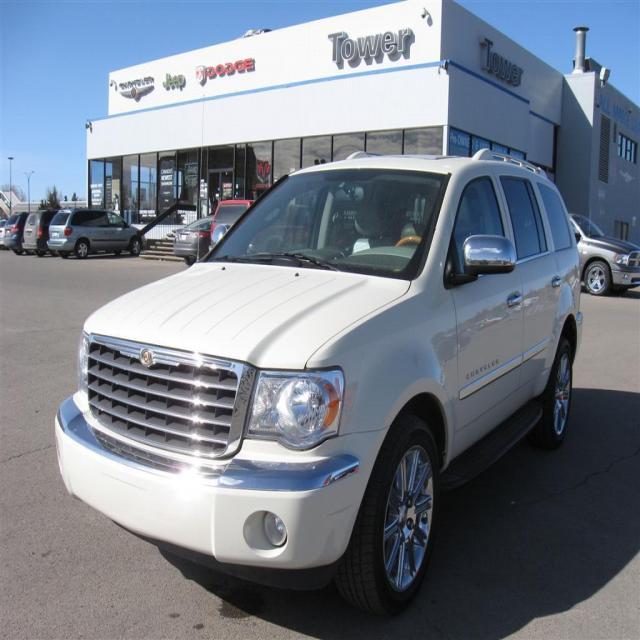car: (54, 141, 585, 630), (568, 195, 636, 312), (51, 199, 139, 272), (8, 205, 50, 257)
